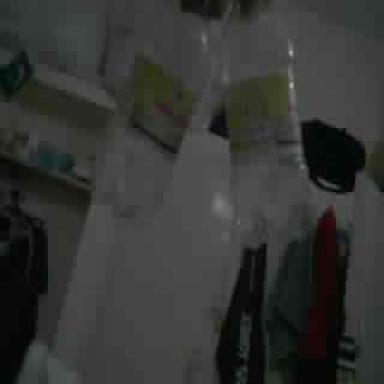bottle: (100, 5, 208, 216), (221, 5, 308, 243)
